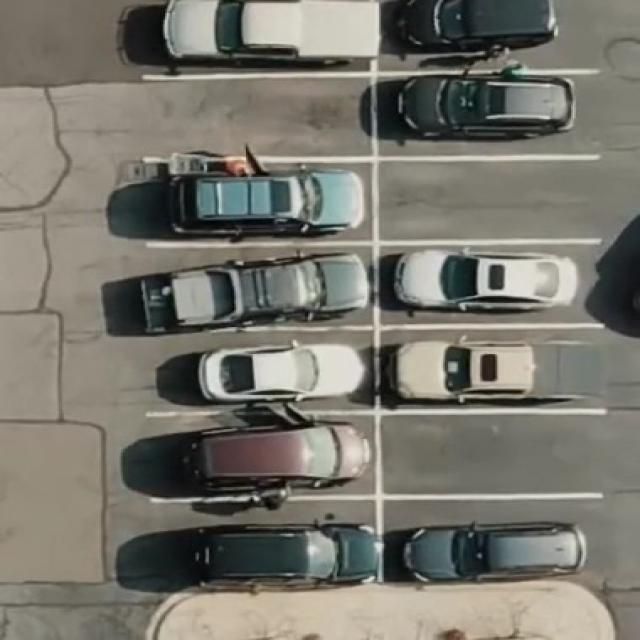space-empty: (372, 148, 606, 260), (378, 410, 612, 500), (135, 72, 372, 160)
space-occupied: (121, 497, 381, 595), (121, 239, 374, 334), (376, 313, 613, 413), (372, 61, 600, 163), (130, 409, 377, 500), (133, 156, 374, 244), (120, 333, 375, 413), (381, 496, 603, 584), (136, 0, 378, 75), (381, 0, 569, 68)
